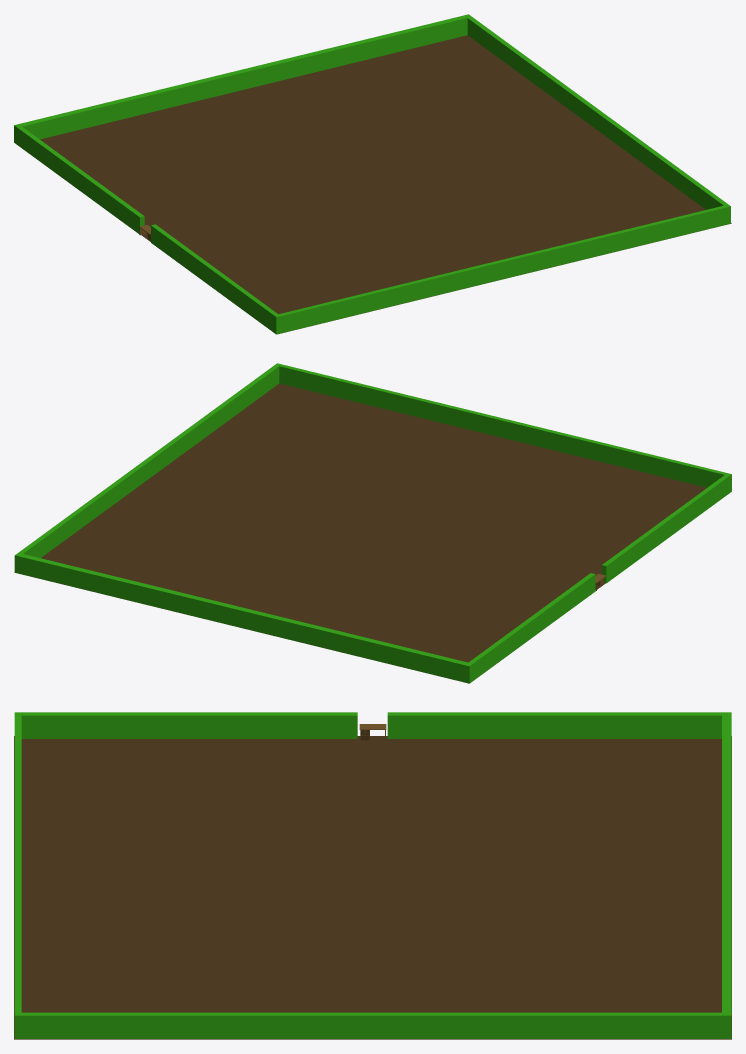
Rendered from desk.glb.
3 renders of one model, top to bottom at view 1: azimuth 30°, elevation 25°; view 2: azimuth 150°, elevation 25°; view 3: azimuth 270°, elevation 25°, orthographic. The views are drawn at different scales.
Parts seen in each view (by area): view 1: ground, Cube; view 2: ground, Cube; view 3: ground, Cube.
Boxes of the visible parts, x1,y1,x2,y2 form: ground: (40, 35, 731, 334); Cube: (14, 14, 730, 334); ground: (14, 383, 706, 677); Cube: (14, 363, 731, 683); ground: (14, 736, 731, 1039); Cube: (14, 712, 731, 1038).
Size of the model in its own units: 50.76 by 1.85 by 50.63.
